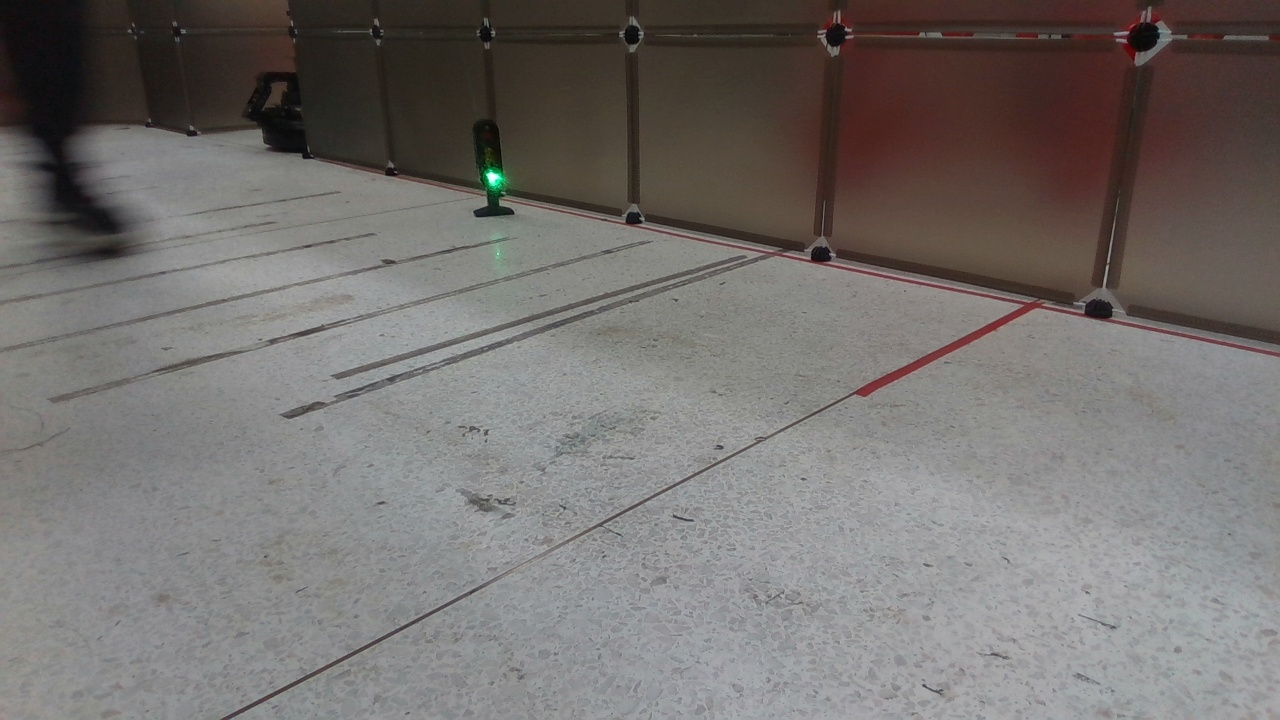Green traffic light: (462, 119, 517, 220)
